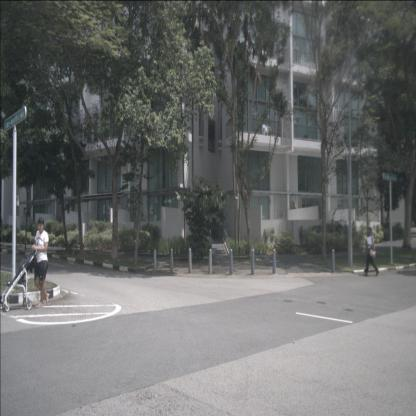human-pedestrian-adult: (32, 216, 52, 309), (363, 226, 379, 277)
